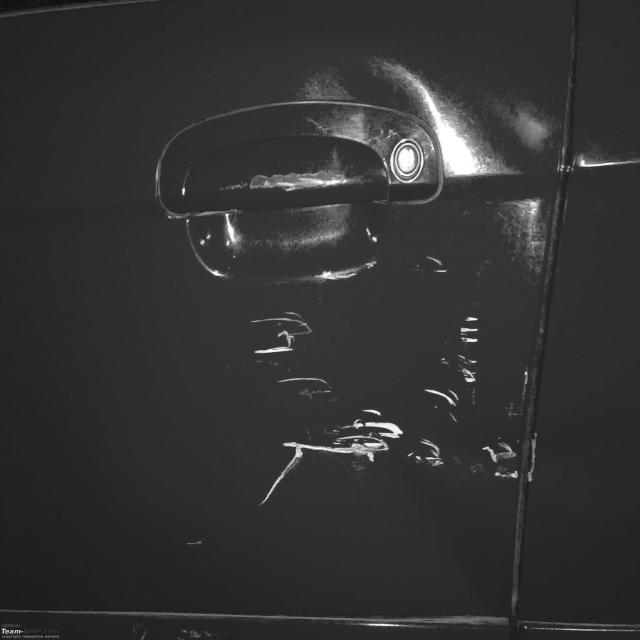scratch: (180, 162, 540, 547)
